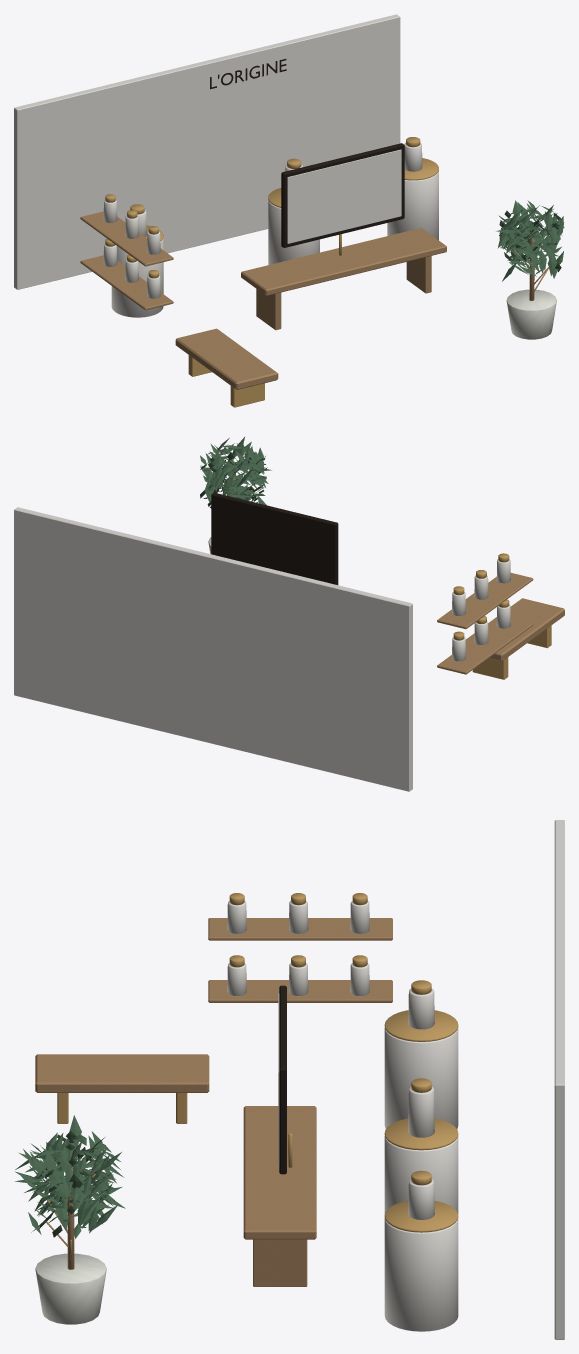
Rendered from room-lorigine-v2.glb.
The picture shows the model from 3 angles, top to bottom: view 1: azimuth 30°, elevation 25°; view 2: azimuth 150°, elevation 25°; view 3: azimuth 270°, elevation 25°; orthographic projection. The views are drawn at different scales.
Visible parts, largest first — view 1: room__lorigine__ivory, room__lorigine__oak, room__lorigine__leaf, room__lorigine__champagne, room__lorigine__espresso, room__lorigine__concrete; view 2: room__lorigine__ivory, room__lorigine__espresso, room__lorigine__oak, room__lorigine__leaf, room__lorigine__champagne; view 3: room__lorigine__ivory, room__lorigine__oak, room__lorigine__champagne, room__lorigine__leaf, room__lorigine__concrete, room__lorigine__espresso.
Boxes of the visible parts, x1,y1,x2,y2 form: room__lorigine__ivory: [14, 14, 438, 317]; room__lorigine__oak: [80, 211, 548, 389]; room__lorigine__leaf: [496, 200, 564, 281]; room__lorigine__champagne: [105, 137, 438, 407]; room__lorigine__espresso: [210, 59, 404, 247]; room__lorigine__concrete: [506, 289, 556, 339]; room__lorigine__ivory: [14, 507, 510, 791]; room__lorigine__espresso: [211, 492, 338, 584]; room__lorigine__oak: [224, 477, 564, 674]; room__lorigine__leaf: [200, 437, 271, 508]; room__lorigine__champagne: [453, 553, 551, 679]; room__lorigine__ivory: [227, 820, 564, 1339]; room__lorigine__oak: [35, 918, 392, 1286]; room__lorigine__champagne: [57, 893, 458, 1232]; room__lorigine__leaf: [15, 1115, 125, 1238]; room__lorigine__concrete: [35, 1253, 106, 1324]; room__lorigine__espresso: [279, 985, 286, 1174].
Size of the model in its own units: 6.12 by 2.75 by 5.38.
Materials: 7 (2 with a texture image).
